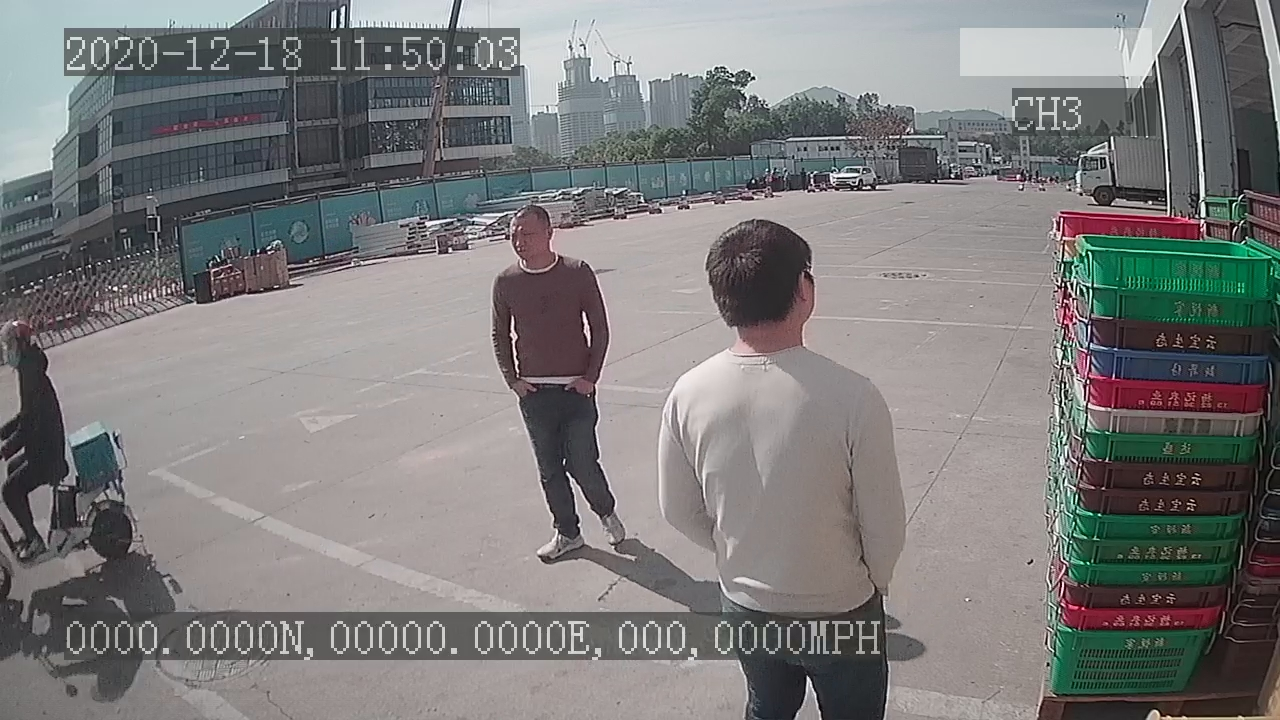person: (486, 202, 629, 565)
